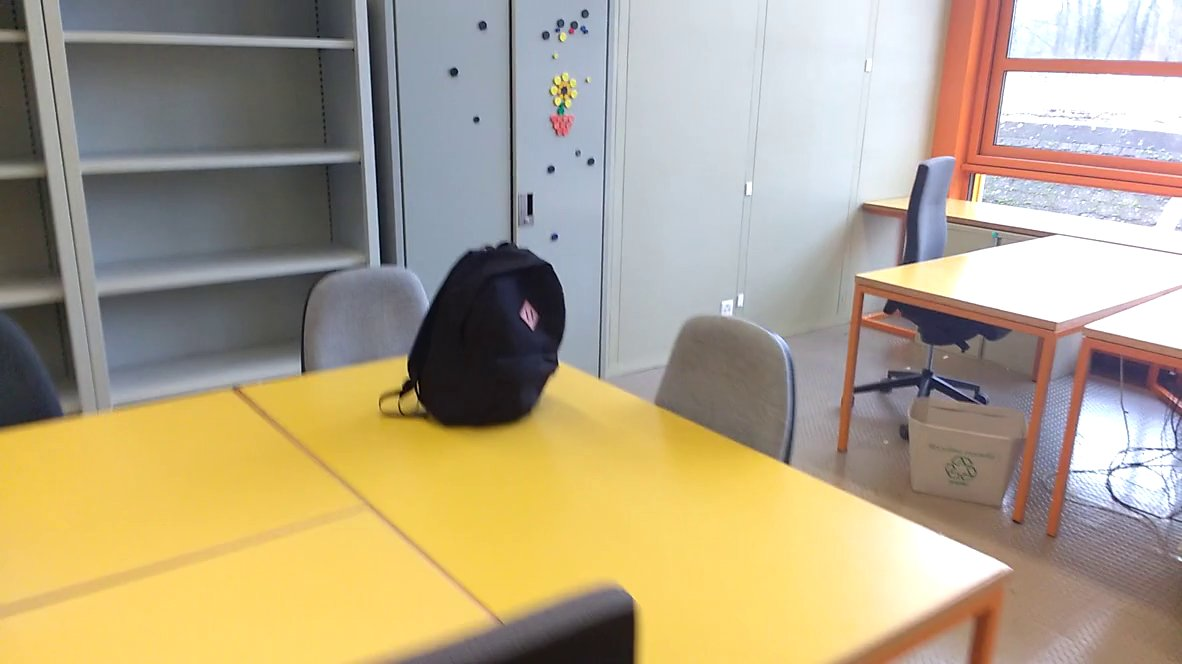bag: (376, 237, 572, 432)
box: (901, 384, 1033, 520)
chair: (841, 148, 1025, 445), (628, 304, 823, 496), (288, 258, 458, 395)
